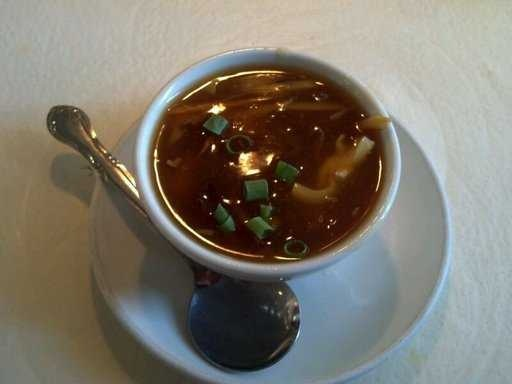soup: (140, 67, 403, 259)
